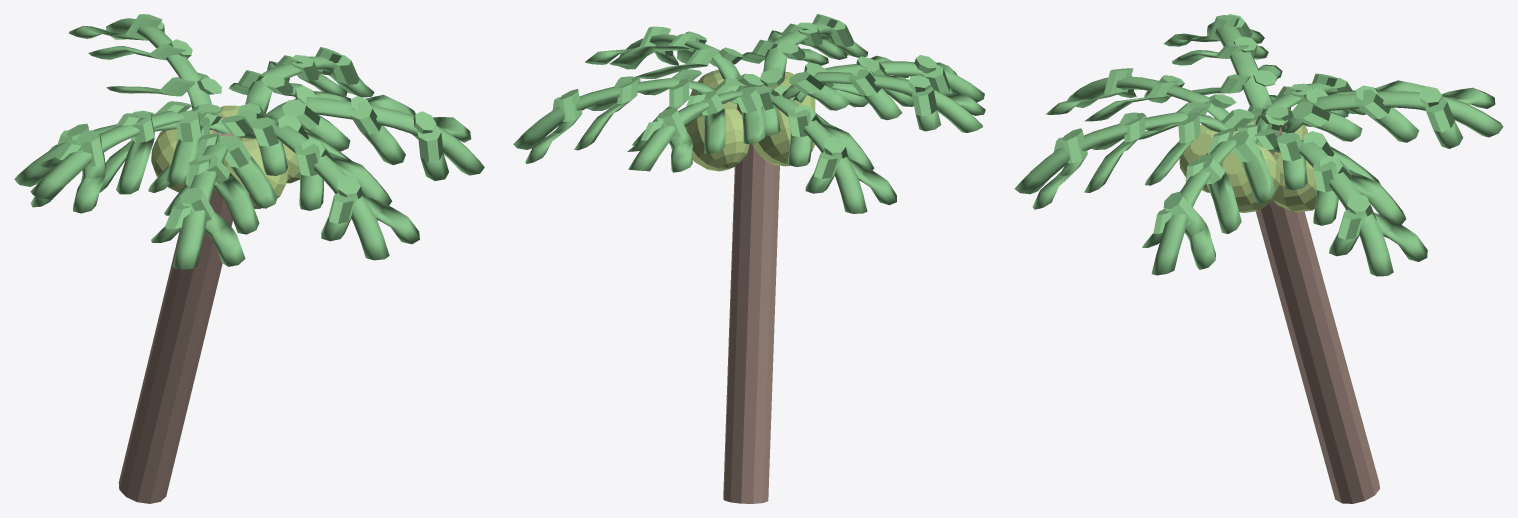
The model's file is CoconutTree.fbx.
3 renders of one model, left to right at view 1: azimuth 30°, elevation 25°; view 2: azimuth 150°, elevation 25°; view 3: azimuth 270°, elevation 25°, orthographic. The views are drawn at different scales.
Parts seen in each view (by area): view 1: default; view 2: default; view 3: default.
Boxes of the visible parts, x1=… form: default: x1=14, y1=14, x2=484, y2=503; default: x1=513, y1=14, x2=985, y2=503; default: x1=1014, y1=14, x2=1503, y2=503.
Size of the model in its own units: 20.15 by 19.68 by 20.39.
